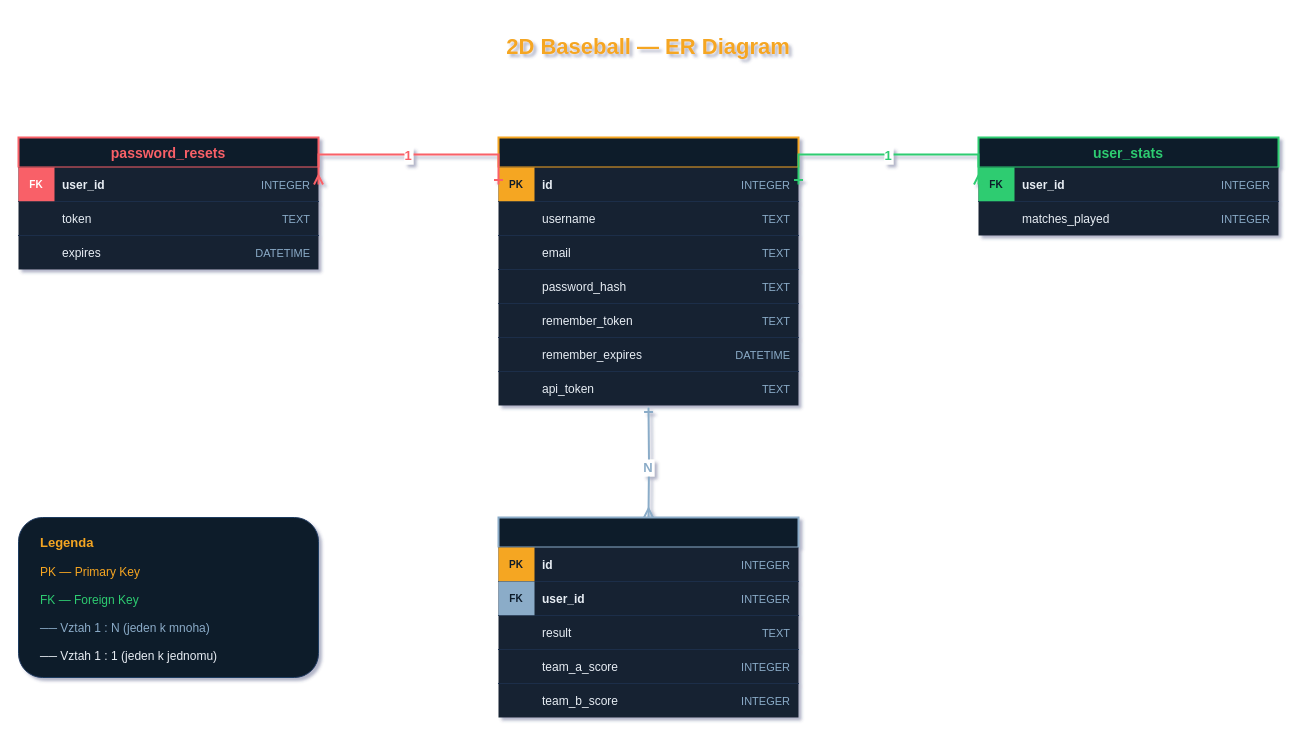
Some shapes in this 1302 by 741 pixel diagram are drawn without their labels. Here are the shapes that lost their labels. From the top down, the centre of each, then its label:
At pixel 648 152: "users".
At pixel 648 532: "match_results".
